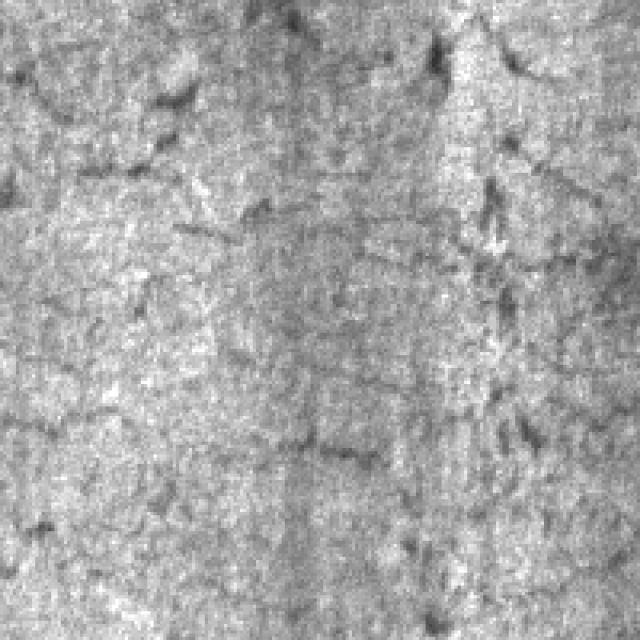crazing: (342, 54, 630, 381), (272, 374, 627, 624), (0, 32, 262, 205)
